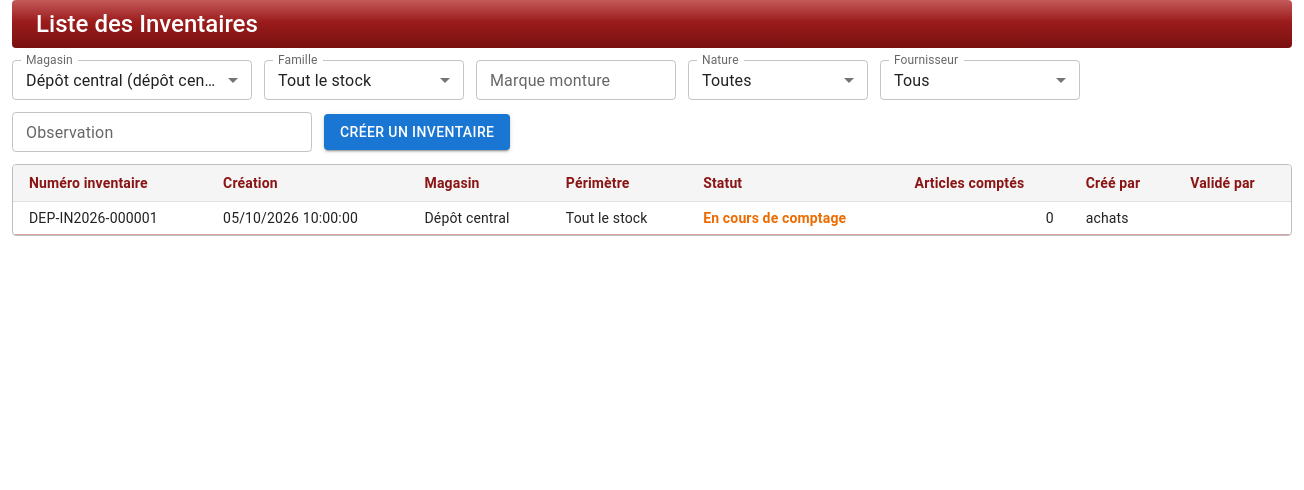
Test case: deux scans rapides sont comptés tous les deux, dans l'ordre
The width and height of the screenshot is (1304, 490).
Click the text "DEP-IN2026-000001" at x=110, y=218, box [13,202,207,235]
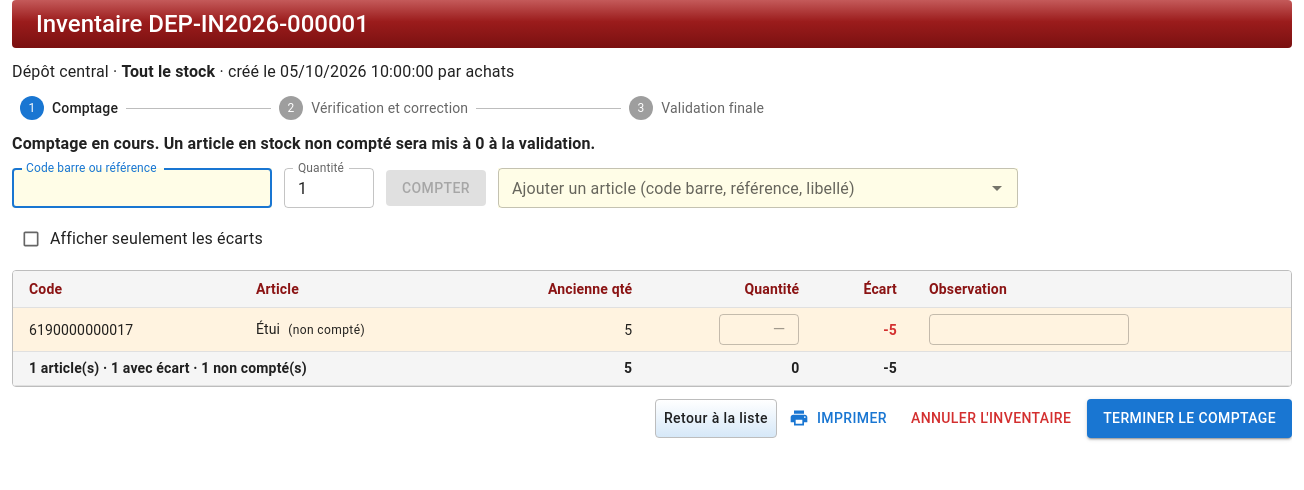
Type "6190000000017" into the field labelled "Code barre ou référence" at x=142, y=188, box [12,168,272,208]
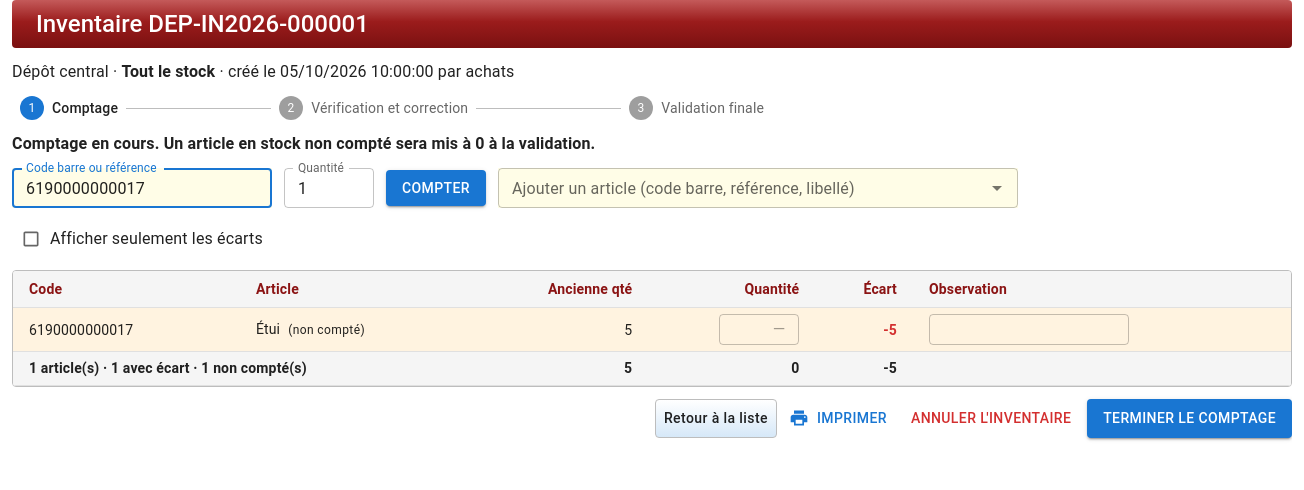
Press Enter in the field labelled "Code barre ou référence", box [12,168,272,208]
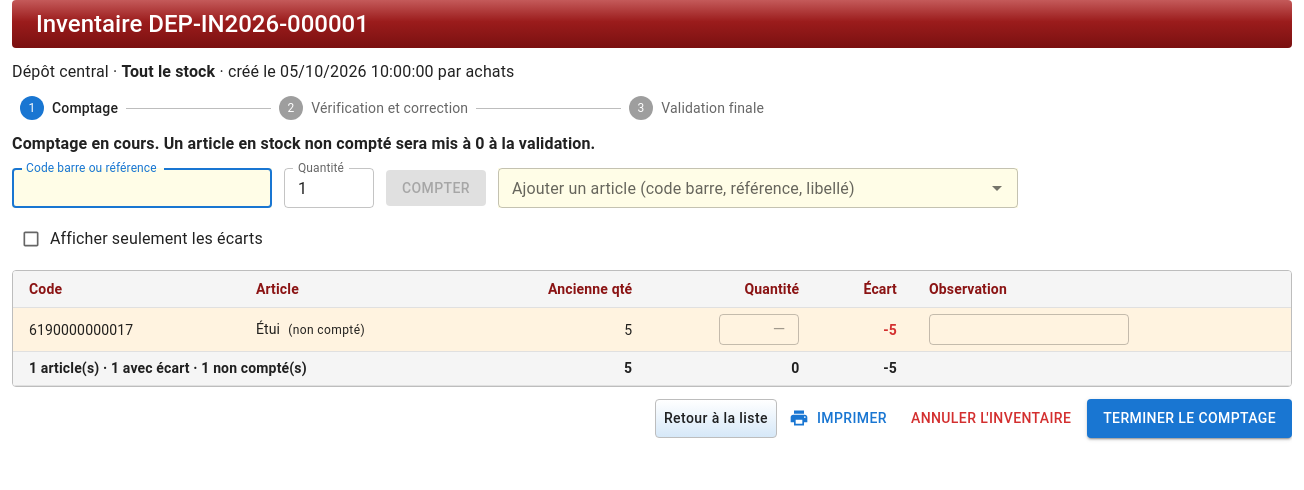
Expected: the field labelled "Code barre ou référence" is empty
Type "ETUI" into the field labelled "Code barre ou référence" at x=142, y=188, box [12,168,272,208]
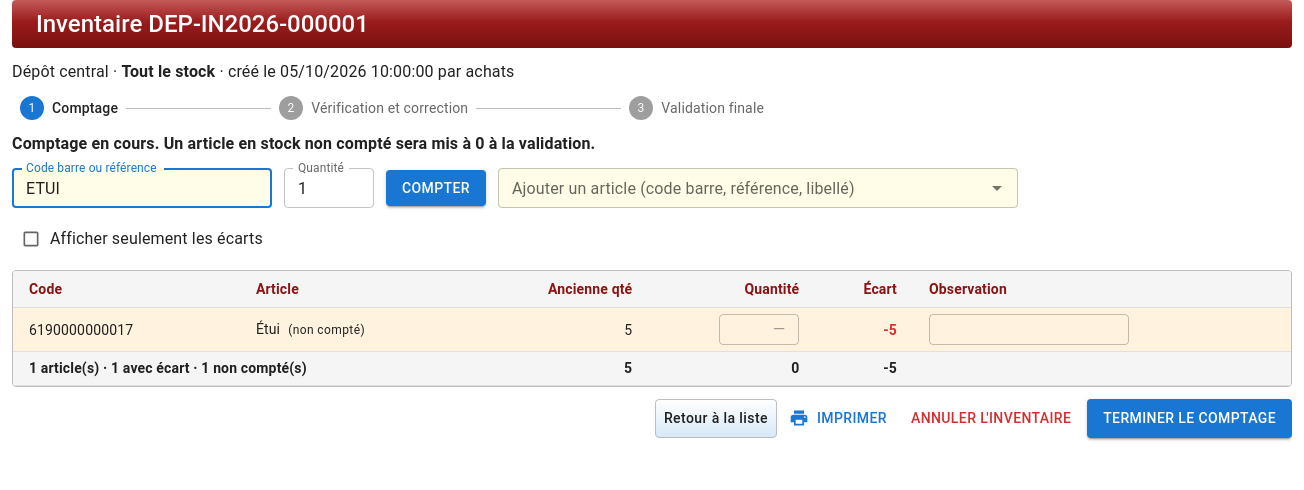
Press Enter in the field labelled "Code barre ou référence", box [12,168,272,208]
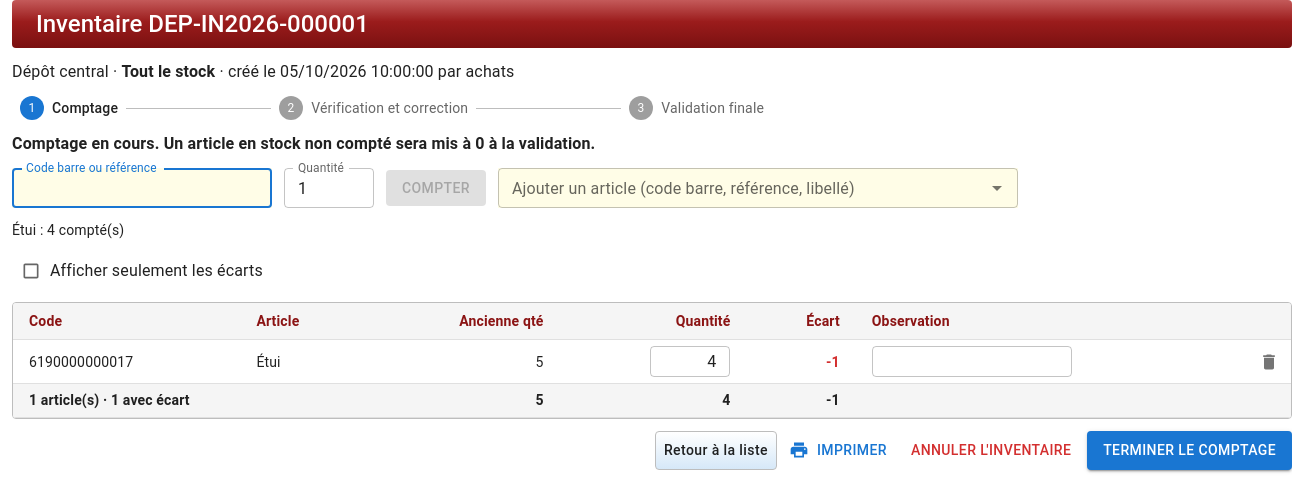
Expected: the field labelled "Code barre ou référence" is empty, [12,168,272,208]
Expected: the text "Étui : 4 compté(s)" is shown, [12,222,124,238]
